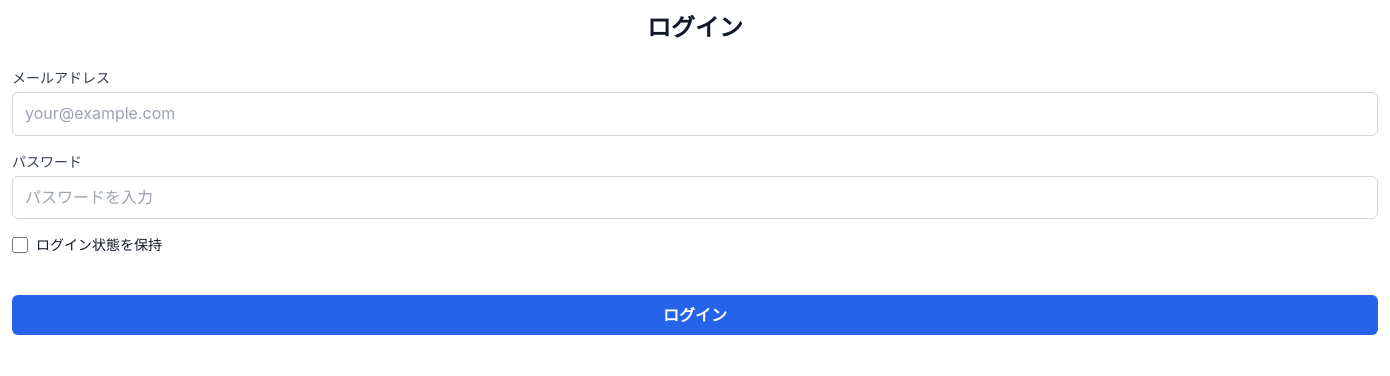
Test: AuthForm › ログインフォーム / Login Form › メールアドレスが空の場合にバリデーションエラーが表示される / Validation error shows for empty email
The image size is (1390, 376).
Note: パスワードのみ入力 / Enter password only
Type "password123" into the password field labelled "パスワード" at (695, 197), box [12, 176, 1378, 219]
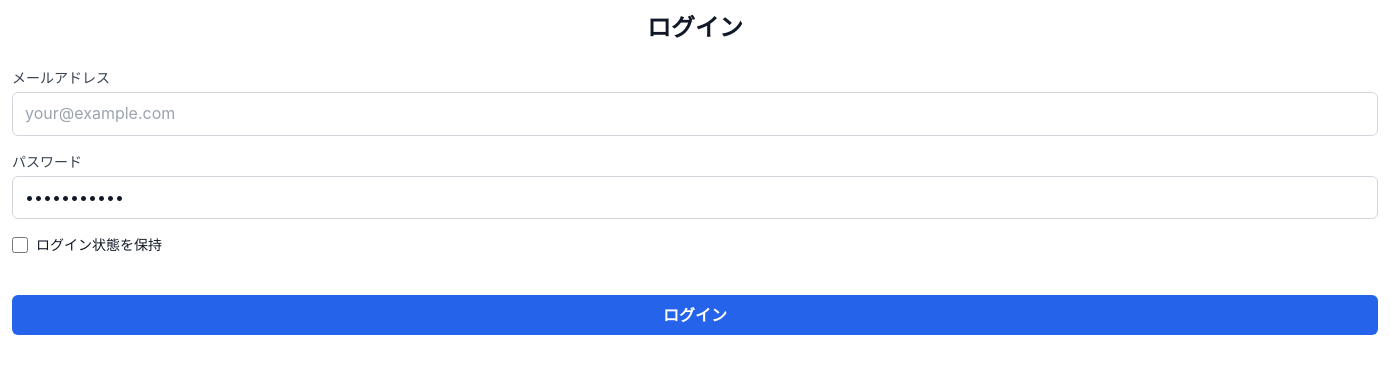
Click the button "ログイン" at (695, 315), box [12, 295, 1378, 335]
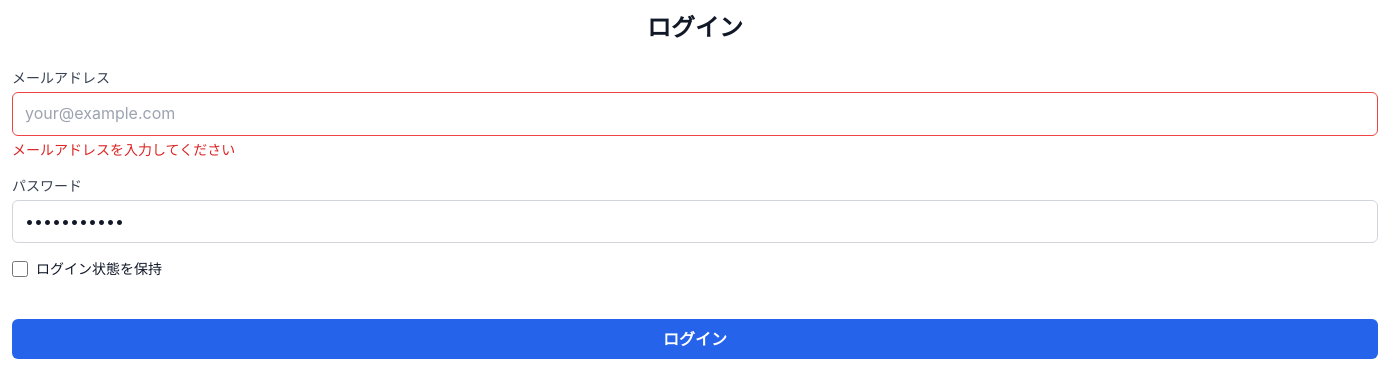
Result: the text "メールアドレスを入力してください" is shown at [12, 141, 235, 158]
